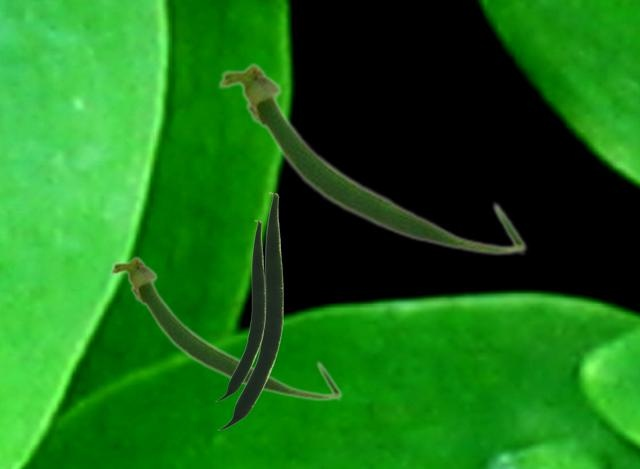french_bean: (216, 60, 527, 256), (108, 254, 342, 401), (217, 192, 282, 429), (215, 220, 264, 400)
